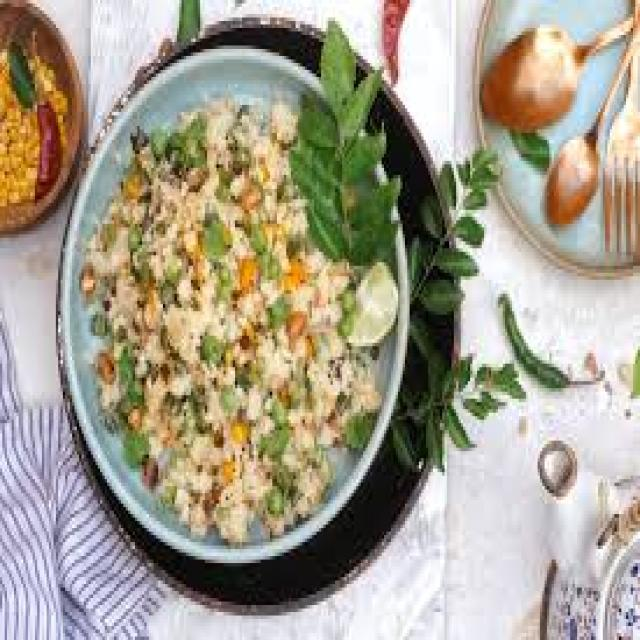UPMA: (79, 101, 386, 528)
